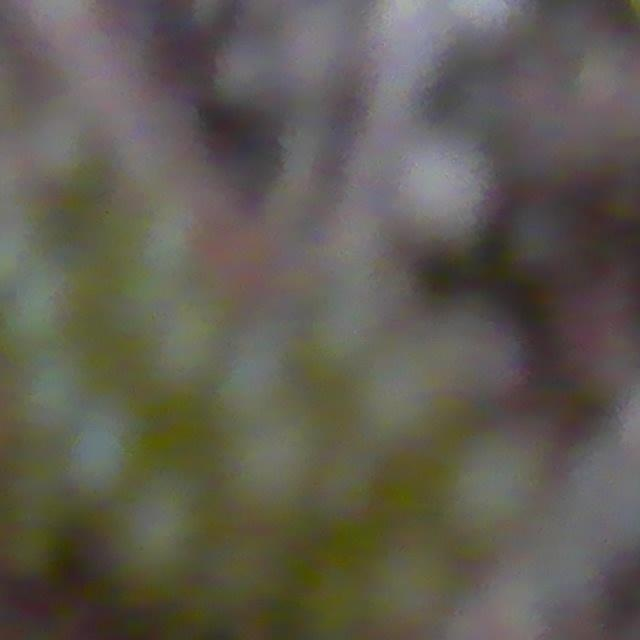SeaGrape: (0, 522, 62, 584)
